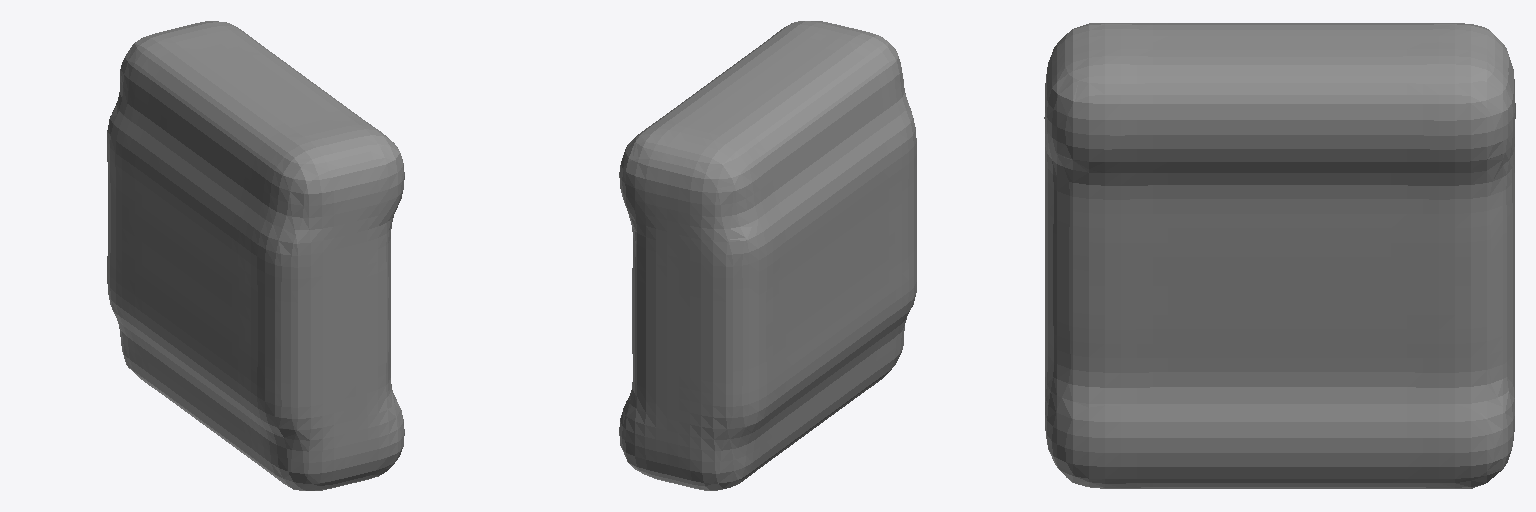
The robot description file, URDF, robot "cube.urdf":
<?xml version="0.0" ?> 
<robot name="cube.urdf"> 
<link name="legobrick"> 
<contact> 
<lateral_friction value="5.0"/> 
<rolling_friction value="0.0"/> 
<contact_cfm value="0.0"/> 
<contact_erp value="1.0"/> 
</contact> 
<inertial> 
<origin rpy="0 0 0" xyz="0.0 0.0 0.0"/> 
<mass value=".01"/> 
<inertia ixx="1" ixy="0" ixz="0" iyy="1" iyz="0" izz="1"/> 
</inertial> 
<visual> 
<origin rpy="1.570796 0 0" xyz="-0.03126953039188565 0.02584532617835015 -0.025858062709319663"/> 
<geometry> 
<mesh filename="P04_3.obj" scale="0.0005603246896669473 0.0005603246896669473 0.0005603246896669473"/> 
</geometry> 
<material name="yellow"> 
<color rgba="0.6 0.6 0.6 1"/> 
</material> 
</visual> 
<collision> 
<origin rpy="1.570796 0 0" xyz="-0.03126953039188565 0.02584532617835015 -0.025858062709319663"/> 
<geometry> 
<mesh filename="P04_3.obj" scale="0.0005603246896669473 0.0005603246896669473 0.0005603246896669473"/> 
</geometry> 
</collision> 
</link> 
</robot>

--- Facts derived from the render (not from the file) ---
3 views of the same robot in one strip: view 1: azimuth 30°, elevation 25°; view 2: azimuth 150°, elevation 25°; view 3: azimuth 270°, elevation 25° (orthographic).
Model cube.urdf with 1 links and 0 joints (none), rooted at legobrick, posed all joints at 0.
Links seen in each view (by area): view 1: legobrick; view 2: legobrick; view 3: legobrick.
Boxes of the visible links, x1=… form: legobrick: x1=107, y1=21, x2=404, y2=490; legobrick: x1=619, y1=21, x2=916, y2=490; legobrick: x1=1044, y1=23, x2=1515, y2=488.
Bounding box of the posed robot: 0.0237 × 0.056 × 0.056 m (x, y, z).
Meshes: 1 distinct files referenced, 1 mesh visuals loaded (1 OBJ).
